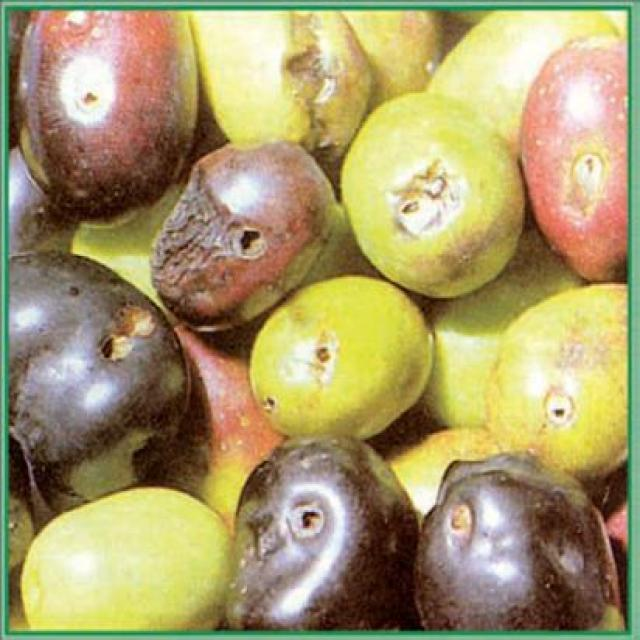Anthracnose: (9, 251, 190, 503), (342, 93, 524, 296), (19, 12, 198, 218), (227, 435, 415, 628), (151, 146, 345, 332), (415, 454, 620, 628), (250, 276, 432, 438), (482, 288, 626, 480), (522, 40, 624, 278), (192, 11, 372, 142)
